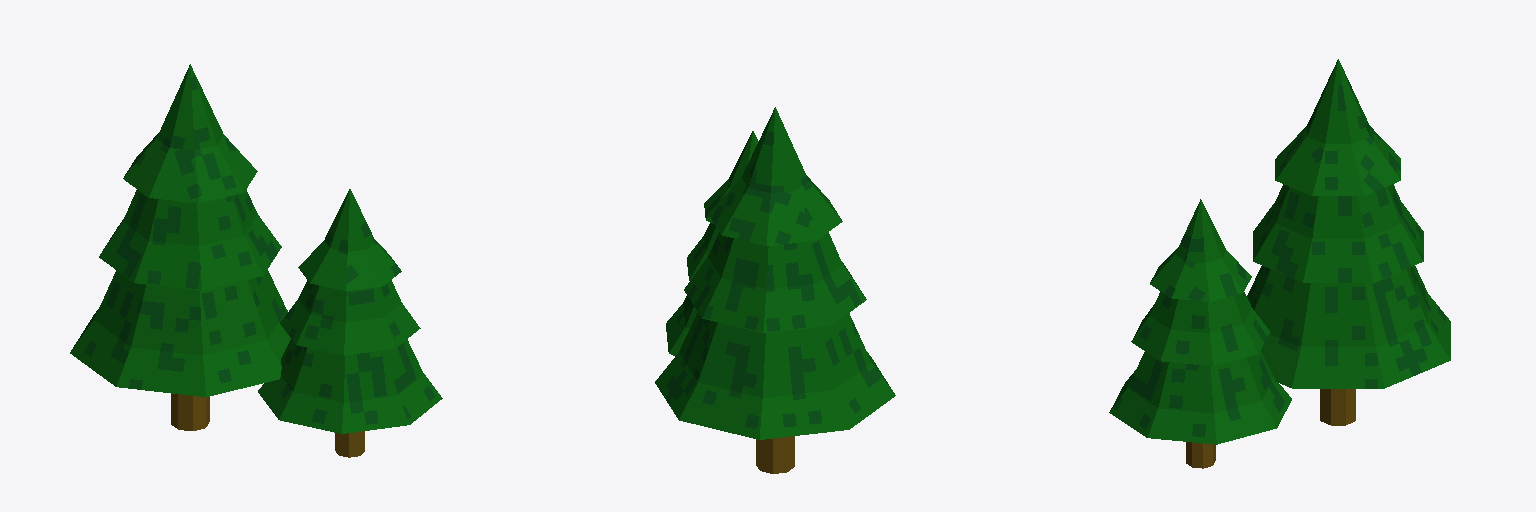
The picture shows the model from 3 angles: view 1: azimuth 30°, elevation 25°; view 2: azimuth 150°, elevation 25°; view 3: azimuth 270°, elevation 25°; orthographic projection.
Parts seen in each view (by area): view 1: cylinder; view 2: cylinder; view 3: cylinder.
Part boxes in pixels (bbox=[...]): cylinder: bbox=[70, 64, 442, 457]; cylinder: bbox=[655, 107, 895, 473]; cylinder: bbox=[1109, 59, 1450, 468].
Size of the model in its own units: 1.46 by 1.88 by 1.61.
2 materials, 2 textured.